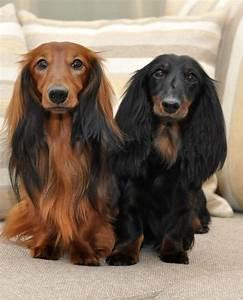dog: (0, 40, 127, 266), (109, 52, 228, 265)
